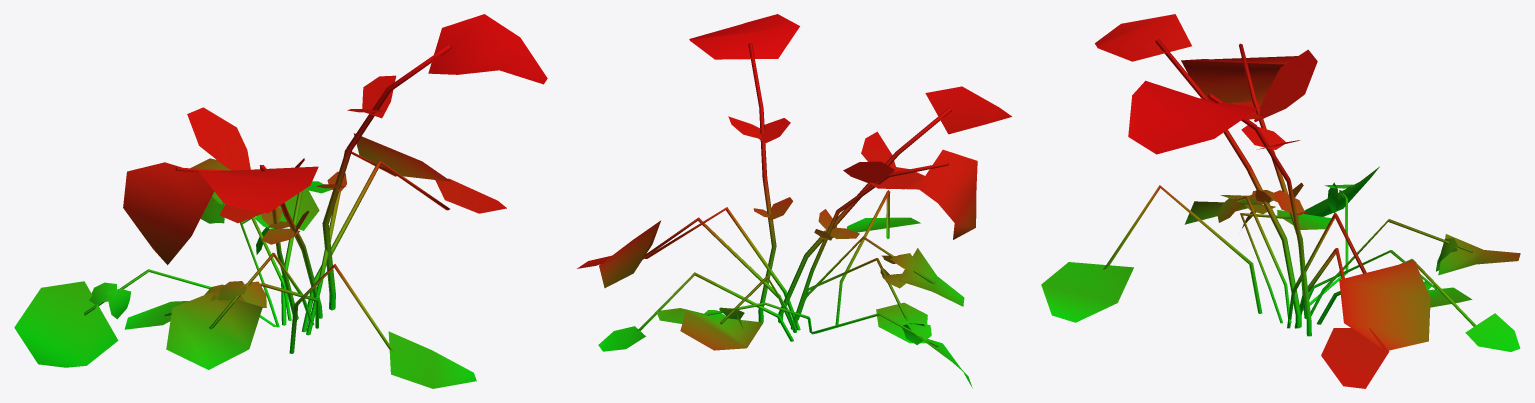
Rendered from SM_Coriander_13.fbx.
3 renders of one model, left to right at view 1: azimuth 30°, elevation 25°; view 2: azimuth 150°, elevation 25°; view 3: azimuth 270°, elevation 25°, orthographic. The views are drawn at different scales.
Parts seen in each view (by area): view 1: _hxkh_Var14_LOD3; view 2: _hxkh_Var14_LOD3; view 3: _hxkh_Var14_LOD3.
Part boxes in pixels (<box>): _hxkh_Var14_LOD3: <box>14,14,547,388</box>; _hxkh_Var14_LOD3: <box>577,14,1011,388</box>; _hxkh_Var14_LOD3: <box>1041,14,1520,388</box>.
Size of the model in its own units: 18.48 by 10.97 by 16.86.
